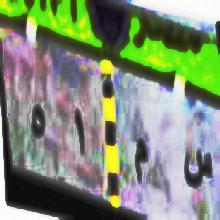1: (70, 96, 88, 164)
5: (30, 86, 45, 150)
meem: (128, 128, 150, 186)
seen: (181, 142, 214, 194)
